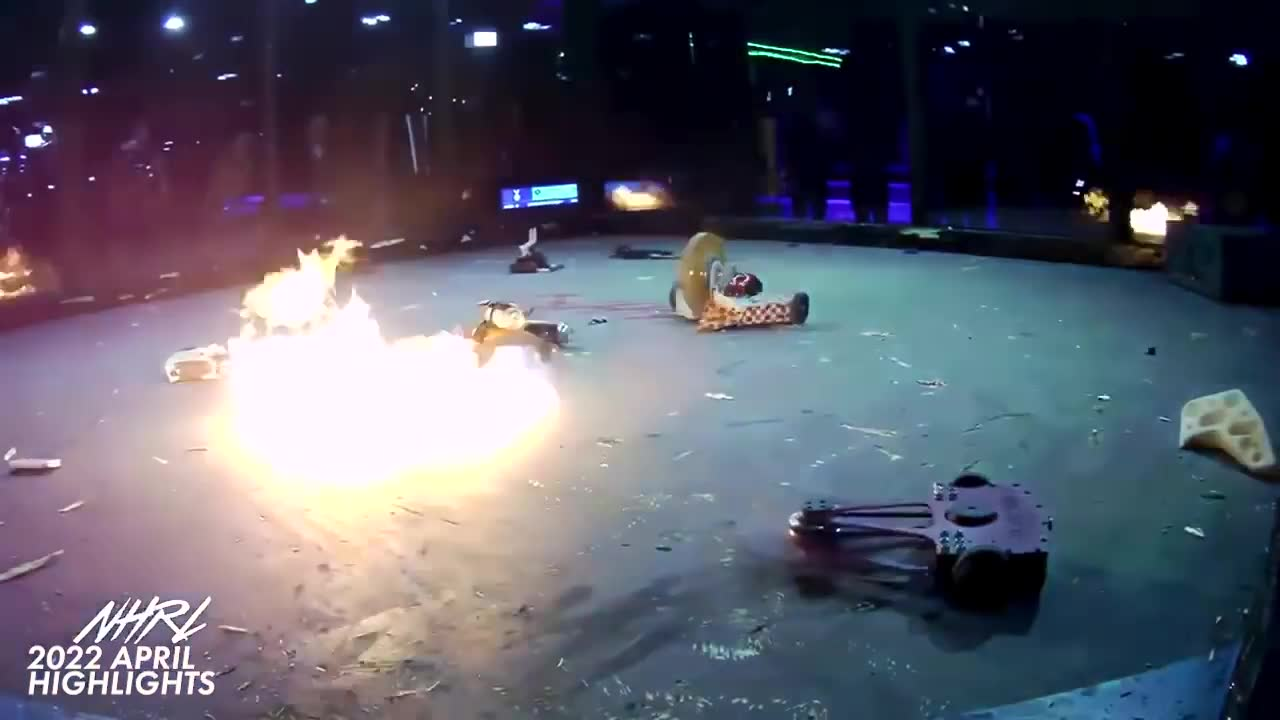combatbot: (788, 471, 1054, 614), (670, 233, 813, 336), (462, 301, 578, 371), (161, 340, 233, 387), (510, 230, 565, 275)
debris: (1180, 389, 1280, 477), (2, 446, 64, 478)
housebot: (1168, 222, 1280, 305)
minibot: (609, 238, 679, 262)
